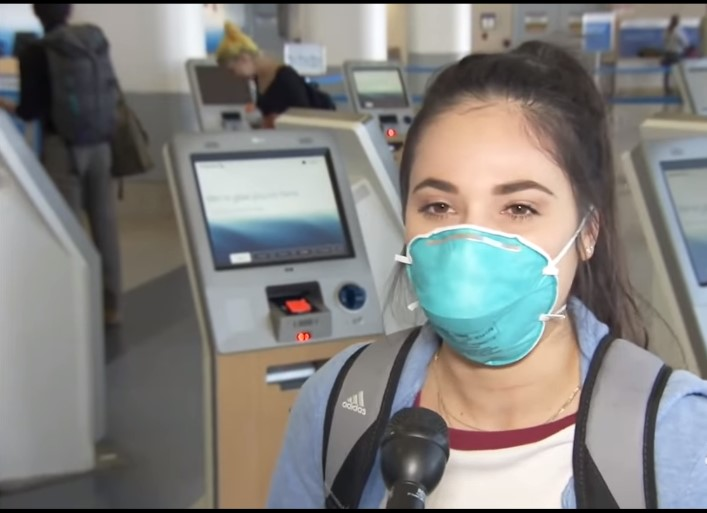face_with_mask: (394, 45, 611, 372)
